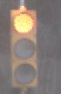Red: (8, 6, 41, 93)
